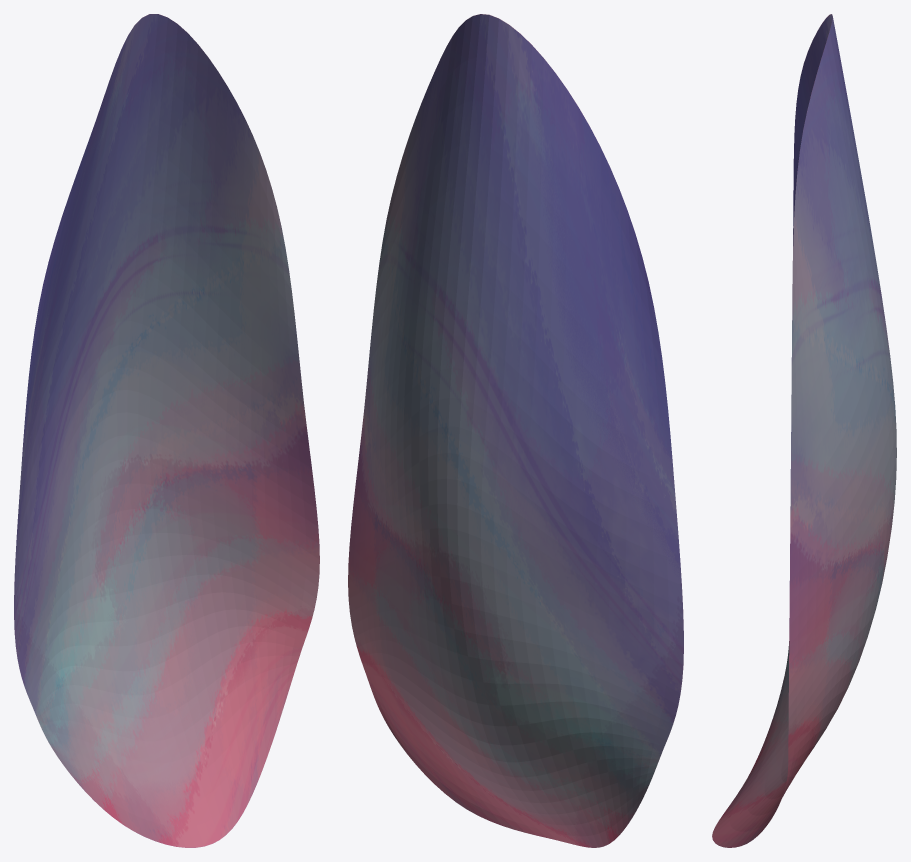
The model's file is petale_dev.obj.
3 views of the same model, side by side, from view 1: azimuth 30°, elevation 25°; view 2: azimuth 150°, elevation 25°; view 3: azimuth 270°, elevation 25° (orthographic). The views are drawn at different scales.
Parts seen in each view (by area): view 1: Hyper_NURBS_Face_1.000; view 2: Hyper_NURBS_Face_1.000; view 3: Hyper_NURBS_Face_1.000.
Part boxes in pixels (x1,y1,x2,y2): Hyper_NURBS_Face_1.000: (14,14,319,847); Hyper_NURBS_Face_1.000: (348,14,683,847); Hyper_NURBS_Face_1.000: (712,14,896,847).
Bounding box in the file's own units: 0.2326 × 0.5749 × 0.1173.
